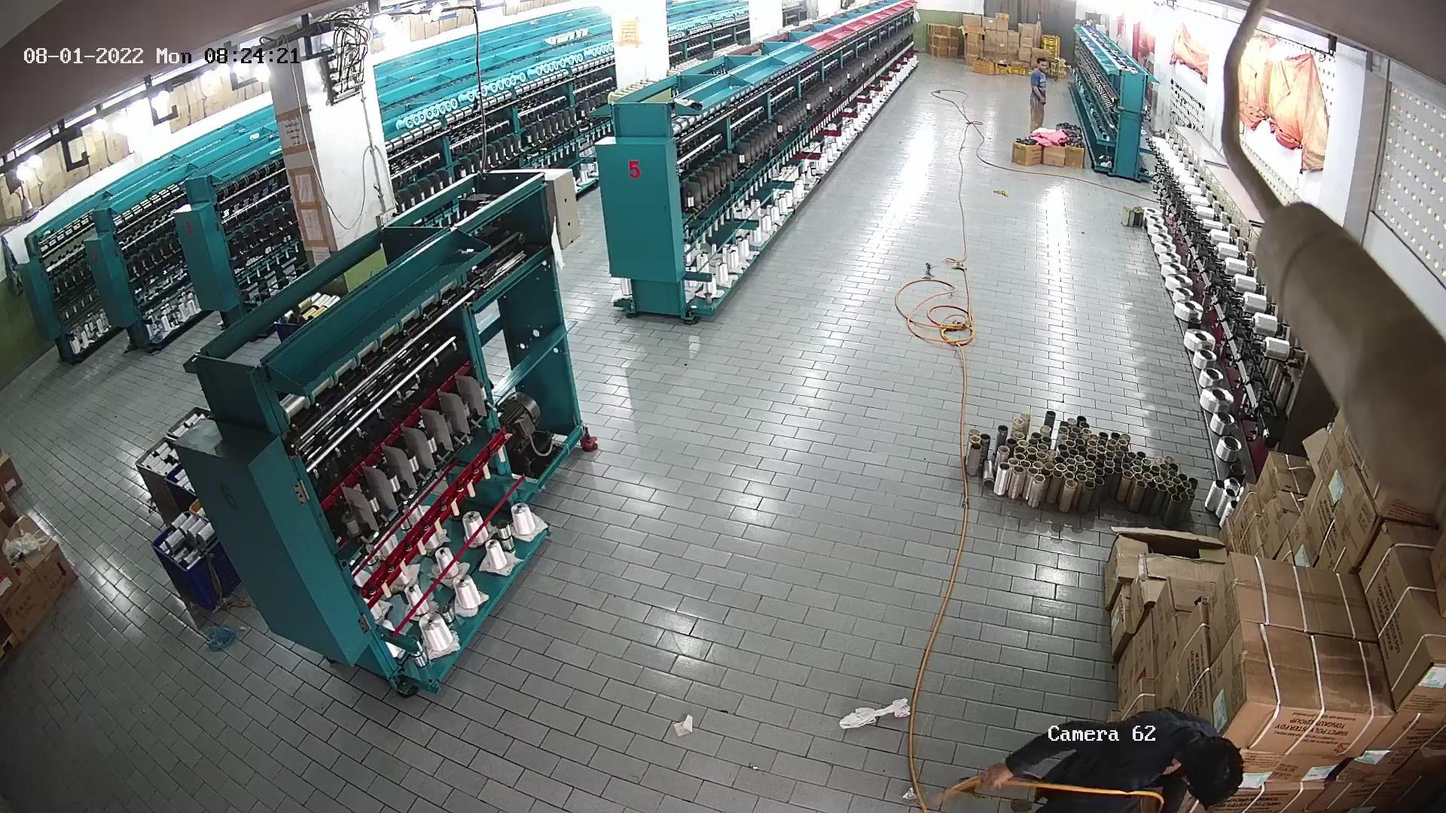person: (983, 721, 1245, 809), (1023, 53, 1051, 132)
